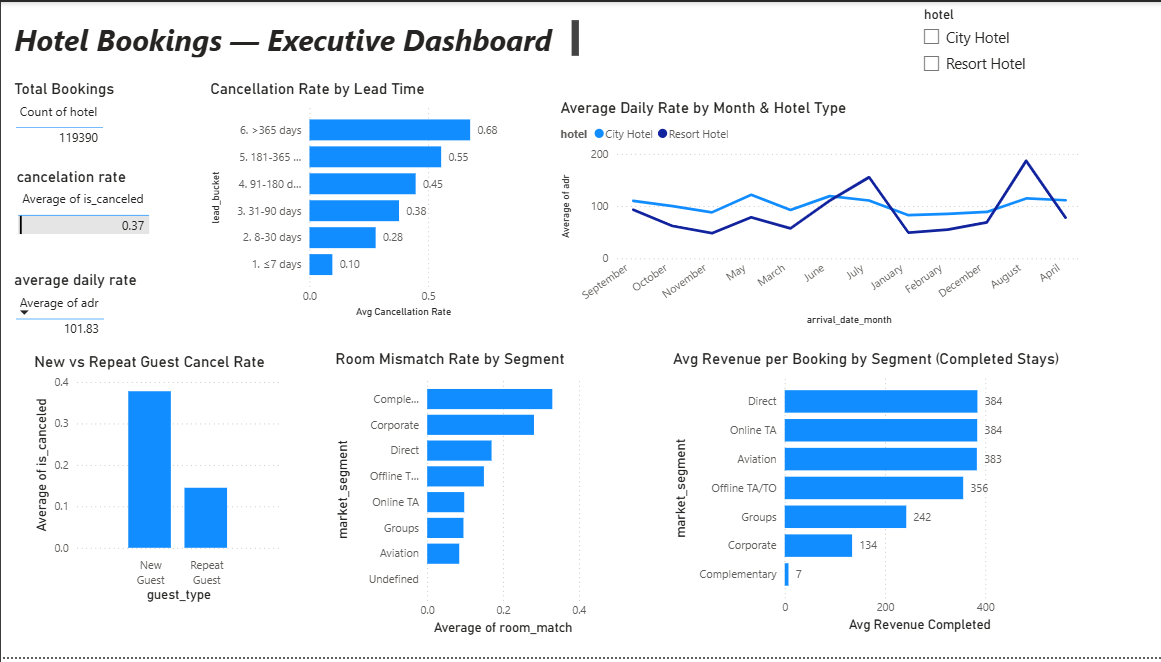

This screenshot's page, from the dashboard's own definition file:
{"tool":"powerbi","page":{"name":"Page 1","canvas":[1280,720],"ordinal":0},"visuals":[{"type":"clusteredBarChart","title":"Cancellation Rate by Lead Time","fields":{"Category":["hotel_bookings.lead_bucket"],"Y":["Avg(hotel_bookings.is_canceled)"]},"box":[225,85.1,333.4,266.2],"z":0},{"type":"clusteredBarChart","title":"Avg Revenue per Booking by Segment (Completed Stays)","fields":{"Y":["hotel_bookings.Avg Revenue Completed"],"Category":["hotel_bookings.market_segment"]},"box":[732.8,381.5,439.1,315.6],"z":1000},{"type":"clusteredColumnChart","title":"New vs Repeat Guest Cancel Rate ","fields":{"Category":["hotel_bookings.guest_type"],"Y":["Avg(hotel_bookings.is_canceled)"]},"box":[31.6,384.2,279.9,279.9],"z":2000},{"type":"lineChart","title":"Average Daily Rate by Month & Hotel Type","fields":{"Category":["hotel_bookings.arrival_date_month"],"Y":["Avg(hotel_bookings.adr)"],"Series":["hotel_bookings.hotel"]},"box":[609.3,105.7,581.8,253.9],"z":3000},{"type":"clusteredBarChart","title":"Room Mismatch Rate by Segment","fields":{"Y":["Avg(hotel_bookings.room_match)"],"Category":["hotel_bookings.market_segment"]},"box":[362.3,381.5,285.4,318.4],"z":4000},{"type":"tableEx","title":"cancelation rate","fields":{"Values":["Avg(hotel_bookings.is_canceled)"]},"box":[12.3,181.1,190.7,89.2],"z":5000},{"type":"tableEx","title":"average daily rate","fields":{"Values":["Avg(hotel_bookings.adr)"]},"box":[9.6,295,161.9,89.2],"z":6000},{"type":"tableEx","title":"Total Bookings","fields":{"Values":["hotel_bookings.hotel"]},"box":[9.6,85.1,142.7,89.2],"z":6001},{"type":"textbox","box":[9.6,15.1,629.8,50.8],"z":6002},{"type":"slicer","fields":{"Values":["hotel_bookings.hotel"]},"box":[1000.3,0,279.9,94.7],"z":6003}]}

Visuals, with their boxes in screenshot pixels (x1, y1, x2, y2), scaled from the page's 1280x720 canvas onto the 1161x662 screenshot:
"Cancellation Rate by Lead Time" clusteredBarChart: locate(204, 78, 506, 323)
"Avg Revenue per Booking by Segment (Completed Stays)" clusteredBarChart: locate(665, 351, 1063, 641)
"New vs Repeat Guest Cancel Rate " clusteredColumnChart: locate(29, 353, 283, 611)
"Average Daily Rate by Month & Hotel Type" lineChart: locate(553, 97, 1080, 331)
"Room Mismatch Rate by Segment" clusteredBarChart: locate(329, 351, 587, 644)
"cancelation rate" tableEx: locate(11, 167, 184, 249)
"average daily rate" tableEx: locate(9, 271, 156, 353)
"Total Bookings" tableEx: locate(9, 78, 138, 160)
textbox: locate(9, 14, 580, 61)
slicer - hotel_bookings.hotel: locate(907, 0, 1160, 87)
